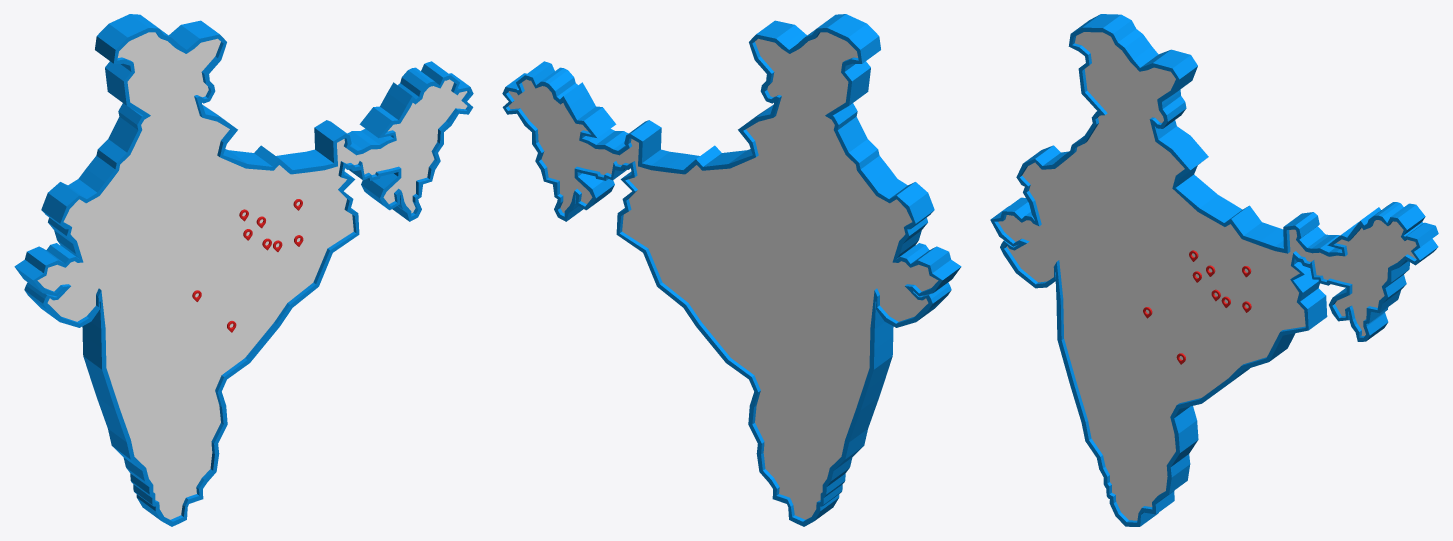
The model's file is india_coal_map.glb.
3 views of the same model, side by side, from view 1: azimuth 30°, elevation 25°; view 2: azimuth 150°, elevation 25°; view 3: azimuth 330°, elevation 25° (orthographic). The views are drawn at different scales.
Visible parts, largest first — view 1: India_Map_India_Map1_0_1, India_Map_Frame; view 2: India_Map_India_Map1_0_1, India_Map_Frame; view 3: India_Map_India_Map1_0_1, India_Map_Frame.
Part boxes in pixels (x1,y1,x2,y2): India_Map_India_Map1_0_1: (37,32,467,519); India_Map_Frame: (14,14,473,526); India_Map_India_Map1_0_1: (508,32,938,519); India_Map_Frame: (502,14,961,526); India_Map_India_Map1_0_1: (998,32,1416,520); India_Map_Frame: (990,14,1438,526).
Bounding box in the file's own units: 2.72 × 2.98 × 0.2223.
